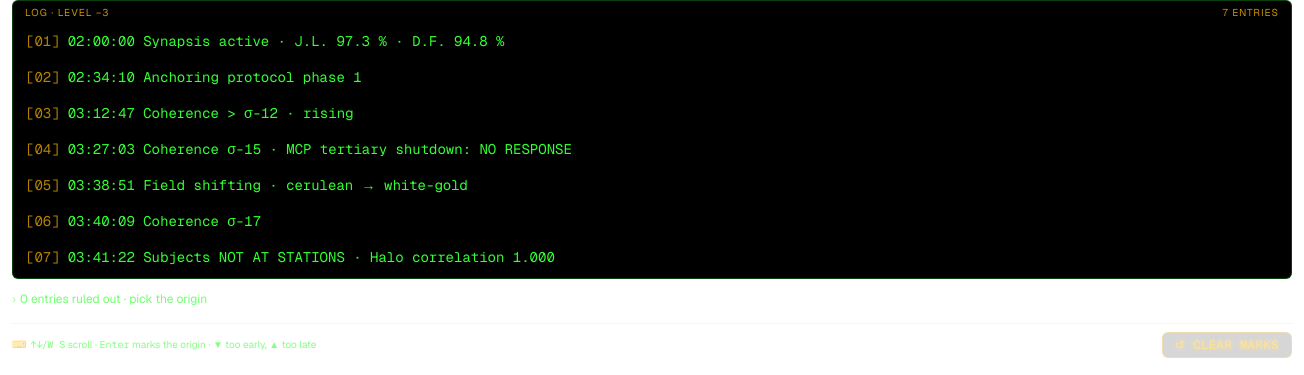
Test case: temporal texts follow the puzzle › the Level −3 log keeps its σ-17 texts
Click the button with aria-label "Entry 1:" at (286, 41), box [17,24,1287,58]
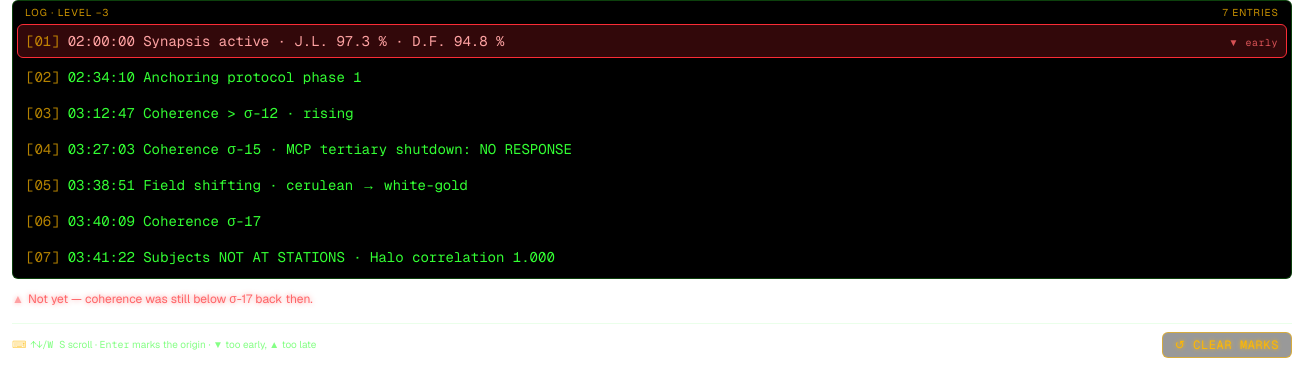
Result: the text "below σ-17" is shown at [28,291,313,307]
